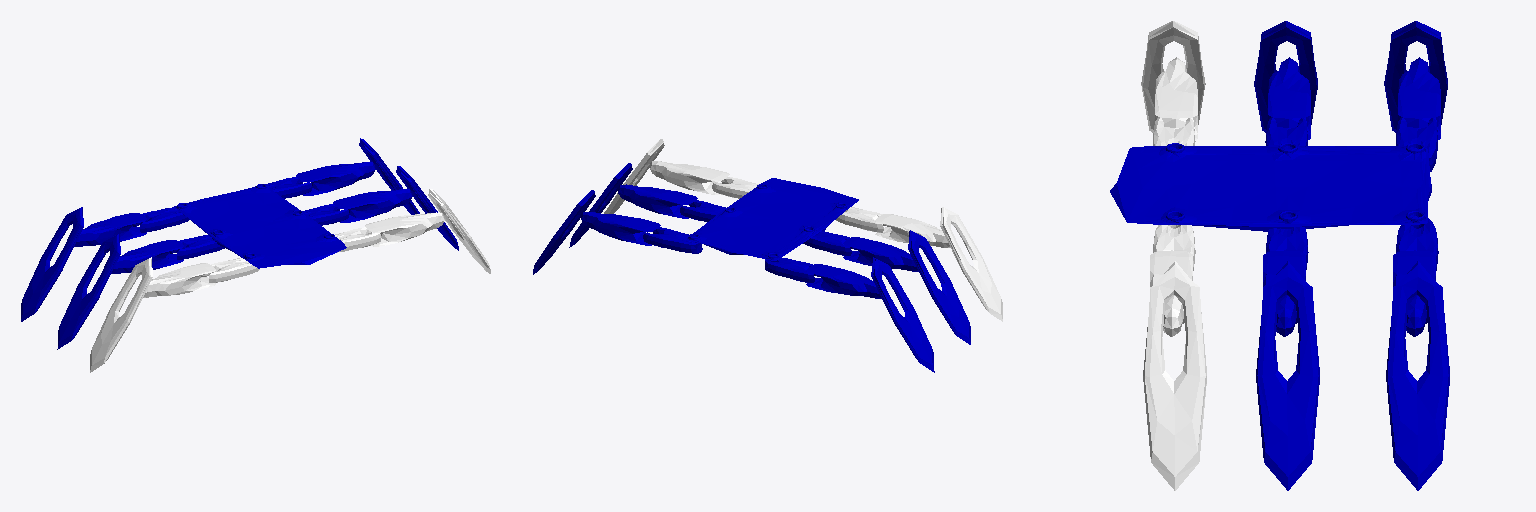
URDF robot description (hexa_bot):
<?xml version="1.0"?>
<robot name ="hexa_bot">

    <material name="blue">
        <color rgba="0 0 0.8 1"/>
    </material>

    <material name="white">
        <color rgba="1 1 1 1"/>
    </material>

    <!-- body -->

    <link name="body">
        <visual>
            <geometry>
                <mesh filename="package://project_demo/meshes/bodyC.stl" scale="0.001 0.001 0.001"/>
            </geometry>
            <material name="blue"/>
        </visual>
    </link>

    <!-- leg1 -->

    <link name="tigh">
        <visual>
            <geometry>
                <mesh filename="package://project_demo/meshes/tighC.stl" scale="0.001 0.001 0.001"/>
            </geometry>
            <material name="white"/>
        </visual>
    </link>

    <link name="knee">
        <visual>
            <geometry>
                <mesh filename="package://project_demo/meshes/calfC.stl" scale="0.001 0.001 0.001"/>
            </geometry>
            <material name="white"/>
        </visual>
    </link>

    <link name="foot">
        <visual>
            <geometry>
                <mesh filename="package://project_demo/meshes/footC.stl" scale="0.001 0.001 0.001"/>
            </geometry>
            <material name="white"/>
        </visual>
    </link>

    <!-- leg 2 -->

    <link name="tigh0">
        <visual>
            <geometry>
                <mesh filename="package://project_demo/meshes/tighC.stl" scale="0.001 0.001 0.001"/>
            </geometry>
            <material name="blue"/>
        </visual>
    </link>
    <link name="knee0">
        <visual>
            <geometry>
                <mesh filename="package://project_demo/meshes/calfC.stl" scale="0.001 0.001 0.001"/>
            </geometry>
            <material name="blue"/>
        </visual>
    </link>

    <link name="foot0">
        <visual>
            <geometry>
                <mesh filename="package://project_demo/meshes/footC.stl" scale="0.001 0.001 0.001"/>
            </geometry>
            <material name="blue"/>
        </visual>
    </link>

    <!-- leg3 -->

    <link name="tigh1">
        <visual>
            <geometry>
                <mesh filename="package://project_demo/meshes/tighC.stl" scale="0.001 0.001 0.001"/>
            </geometry>
            <material name="blue"/>
        </visual>
    </link>

    <link name="knee1">
        <visual>
            <geometry>
                <mesh filename="package://project_demo/meshes/calfC.stl" scale="0.001 0.001 0.001"/>
            </geometry>
            <material name="blue"/>
        </visual>
    </link>

    <link name="foot1">
        <visual>
            <geometry>
                <mesh filename="package://project_demo/meshes/footC.stl" scale="0.001 0.001 0.001"/>
            </geometry>
            <material name="blue"/>
        </visual>
    </link>

    <!-- leg4 -->

    <link name="tigh2">
        <visual>
            <geometry>
                <mesh filename="package://project_demo/meshes/tighC.stl" scale="0.001 0.001 0.001"/>
            </geometry>
            <material name="white"/>
        </visual>
    </link>

    <link name="knee2">
        <visual>
            <geometry>
                <mesh filename="package://project_demo/meshes/calfC.stl" scale="0.001 0.001 0.001"/>
            </geometry>
            <material name="white"/>
        </visual>
    </link>
    <link name="foot2">
        <visual>
            <geometry>
                <mesh filename="package://project_demo/meshes/footC.stl" scale="0.001 0.001 0.001"/>
            </geometry>
            <material name="white"/>
        </visual>
    </link>

    <!-- leg5 -->

    <link name="tigh3">
        <visual>
            <geometry>
                <mesh filename="package://project_demo/meshes/tighC.stl" scale="0.001 0.001 0.001"/>
            </geometry>
            <material name="blue"/>
        </visual>
    </link>

    <link name="knee3">
        <visual>
            <geometry>
                <mesh filename="package://project_demo/meshes/calfC.stl" scale="0.001 0.001 0.001"/>
            </geometry>
            <material name="blue"/>
        </visual>
    </link>

    <link name="foot3">
        <visual>
            <geometry>
                <mesh filename="package://project_demo/meshes/footC.stl" scale="0.001 0.001 0.001"/>
            </geometry>
            <material name="blue"/>
        </visual>
    </link>


    <!-- leg6 -->

    <link name="tigh4">
        <visual>
            <geometry>
                <mesh filename="package://project_demo/meshes/tighC.stl" scale="0.001 0.001 0.001"/>
            </geometry>
            <material name="blue"/>
        </visual>
    </link>

    <link name="knee4">
        <visual>
            <geometry>
                <mesh filename="package://project_demo/meshes/calfC.stl" scale="0.001 0.001 0.001"/>
            </geometry>
            <material name="blue"/>
        </visual>
    </link>
    <link name="foot4">
        <visual>
            <geometry>
                <mesh filename="package://project_demo/meshes/footC.stl" scale="0.001 0.001 0.001"/>
            </geometry>
            <material name="blue"/>
        </visual>
    </link>

    <!-- leg1 -->

    <joint name="tigh_joint" type="continuous">
        <parent link="body"/>
        <child link="tigh"/>
        <origin xyz="0.035 -0.045 -0.006" rpy="0 0 0"/>
        <axis xyz="0 0 1"/>
    </joint>

    <joint name="knee_joint" type="continuous">
        <parent link="tigh"/>
        <child link="knee"/>
        <origin xyz="0.045 0 0" rpy="0 0 0"/>
        <axis xyz="0 1 0"/>
    </joint>

    <joint name="foot_joint" type="continuous">
        <parent link="knee"/>
        <child link="foot"/>
        <origin xyz="0.07 0 0" rpy="0 1 0"/>
        <axis xyz="0 1 0"/>
    </joint>

    <!-- leg2 -->

    <joint name="tigh_joint0" type="continuous">
        <parent link="body"/>
        <child link="tigh0"/>
        <origin xyz="0.035 0.0075 -0.006" rpy="0 0 0"/>
        <axis xyz="0 0 1"/>
    </joint>

    <joint name="knee_joint0" type="continuous">
        <parent link="tigh0"/>
        <child link="knee0"/>
        <origin xyz="0.045 0 0" rpy="0 0 0"/>
        <axis xyz="0 1 0"/>
    </joint>

    <joint name="foot_joint0" type="continuous">
        <parent link="knee0"/>
        <child link="foot0"/>
        <origin xyz="0.07 0 0" rpy="0 1 0"/>
        <axis xyz="0 1 0"/>
    </joint>

    <!-- leg3 -->

    <joint name="tigh_joint1" type="continuous">
        <parent link="body"/>
        <child link="tigh1"/>
        <origin xyz="0.035 0.068 -0.006" rpy="0 0 0"/>
        <axis xyz="0 0 1"/>
    </joint>

    <joint name="knee_joint1" type="continuous">
        <parent link="tigh1"/>
        <child link="knee1"/>
        <origin xyz="0.045 0 0" rpy="0 0 0"/>
        <axis xyz="0 1 0"/>
    </joint>

    <joint name="foot_joint1" type="continuous">
        <parent link="knee1"/>
        <child link="foot1"/>
        <origin xyz="0.07 0 0" rpy="0 1 0"/>
        <axis xyz="0 1 0"/>
    </joint>

    <!-- leg4 front right-->

    <joint name="tigh_joint2" type="continuous">
        <parent link="body"/>
        <child link="tigh2"/>
        <origin xyz="-0.035 -0.045 -0.006" rpy="0 0 3.14"/>
        <axis xyz="0 0 1"/>
    </joint>

    <joint name="knee_joint2" type="continuous">
        <parent link="tigh2"/>
        <child link="knee2"/>
        <origin xyz="0.045 0 0" rpy="0 0 0"/>
        <axis xyz="0 1 0"/>
    </joint>

    <joint name="foot_joint2" type="continuous">
        <parent link="knee2"/>
        <child link="foot2"/>
        <origin xyz="0.07 0 0" rpy="0 1 0"/>
        <axis xyz="0 1 0"/>
    </joint>

    <!-- leg5 -->

    <joint name="tigh_joint3" type="continuous">
        <parent link="body"/>
        <child link="tigh3"/>
        <origin xyz="-0.035 0.0075 -0.006" rpy="0 0 3.14"/>
        <axis xyz="0 0 1"/>
    </joint>

    <joint name="knee_joint3" type="continuous">
        <parent link="tigh3"/>
        <child link="knee3"/>
        <origin xyz="0.045 0 0" rpy="0 0 0"/>
        <axis xyz="0 1 0"/>
    </joint>

    <joint name="foot_joint3" type="continuous">
        <parent link="knee3"/>
        <child link="foot3"/>
        <origin xyz="0.07 0 0" rpy="0 1 0"/>
        <axis xyz="0 1 0"/>
    </joint>

    <!-- leg6 -->

    <joint name="tigh_joint4" type="continuous">
        <parent link="body"/>
        <child link="tigh4"/>
        <origin xyz="-0.035 0.068 -0.006" rpy="0 0 3.14"/>
        <axis xyz="0 0 1"/>
    </joint>

    <joint name="knee_joint4" type="continuous">
        <parent link="tigh4"/>
        <child link="knee4"/>
        <origin xyz="0.045 0 0" rpy="0 0 0"/>
        <axis xyz="0 1 0"/>
    </joint>

    <joint name="foot_joint4" type="continuous">
        <parent link="knee4"/>
        <child link="foot4"/>
        <origin xyz="0.07 0 0" rpy="0 1 0"/>
        <axis xyz="0 1 0"/>
    </joint>
</robot>

--- Facts derived from the render (not from the file) ---
3 views of the same robot in one strip: view 1: azimuth 30°, elevation 25°; view 2: azimuth 150°, elevation 25°; view 3: azimuth 270°, elevation 25° (orthographic).
Robot: hexa_bot — 19 links, 18 joints (18 continuous); root link body; default pose: every joint at zero.
Visible links, largest first — view 1: body, foot2, foot3, foot4, knee, knee1, knee0, knee2, knee4, knee3, foot, foot0 (+7 smaller); view 2: body, foot2, foot4, foot3, knee4, knee, knee0, knee1, knee3, knee2, foot1, tigh1 (+7 smaller); view 3: body, foot0, foot1, foot, foot2, foot3, foot4, knee2, knee4, knee3, knee, knee0 (+7 smaller).
Link boxes in pixels (box(x1,y1,x2,y2)): body: box(174, 184, 346, 268); foot2: box(90, 257, 152, 372); foot3: box(57, 234, 120, 349); foot4: box(21, 207, 83, 321); knee: box(365, 212, 444, 246); knee1: box(296, 162, 375, 195); knee0: box(333, 189, 412, 222); knee2: box(143, 263, 215, 297); knee4: box(67, 213, 146, 246); knee3: box(104, 240, 183, 273); foot: box(428, 189, 490, 273); foot0: box(396, 166, 458, 250); body: box(687, 178, 858, 260); foot2: box(940, 207, 1002, 321); foot4: box(871, 257, 934, 372); foot3: box(908, 230, 970, 344); knee4: box(806, 264, 881, 298); knee: box(650, 161, 729, 194); knee0: box(618, 184, 697, 218); knee1: box(581, 212, 660, 245); knee3: box(843, 237, 918, 271); knee2: box(875, 214, 950, 247); foot1: box(533, 190, 595, 274); tigh1: box(643, 227, 702, 253); body: box(1110, 143, 1431, 231); foot0: box(1256, 261, 1319, 490); foot1: box(1386, 261, 1449, 490); foot: box(1143, 261, 1206, 490); foot2: box(1141, 21, 1205, 132); foot3: box(1254, 21, 1317, 132); foot4: box(1384, 21, 1447, 132); knee2: box(1155, 57, 1197, 139); knee4: box(1398, 57, 1440, 139); knee3: box(1268, 57, 1310, 139); knee: box(1150, 250, 1192, 336); knee0: box(1263, 250, 1305, 336).
Bounding box of the posed robot: 0.3802 × 0.1585 × 0.0912 m (x, y, z).
19 mesh visuals loaded from 4 distinct referenced files (4 binary STL).